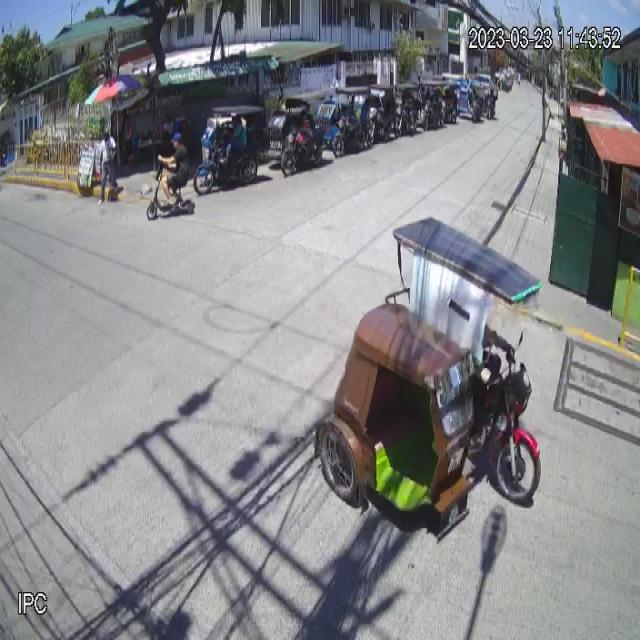Tricycle: (312, 210, 543, 534)
